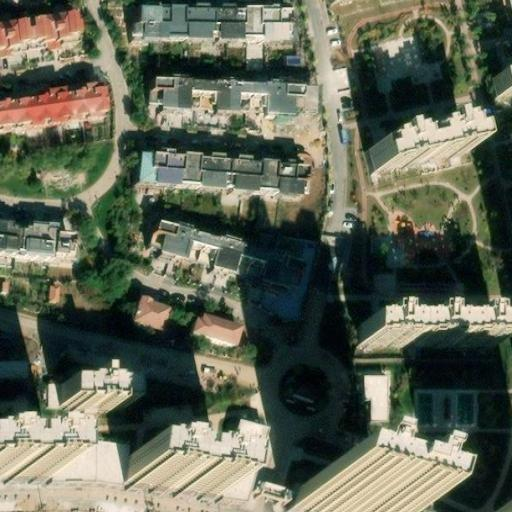building: (149, 227, 316, 310), (141, 160, 311, 210), (141, 14, 291, 53), (0, 91, 111, 140), (158, 90, 301, 128), (371, 127, 468, 176), (127, 452, 228, 495), (37, 443, 150, 479), (359, 329, 490, 354), (290, 478, 381, 512), (0, 13, 79, 50), (188, 318, 245, 354), (60, 374, 122, 405), (214, 462, 258, 500), (0, 448, 49, 479), (134, 304, 171, 335), (377, 497, 420, 512), (498, 74, 512, 106), (167, 454, 198, 464), (0, 447, 17, 453)
